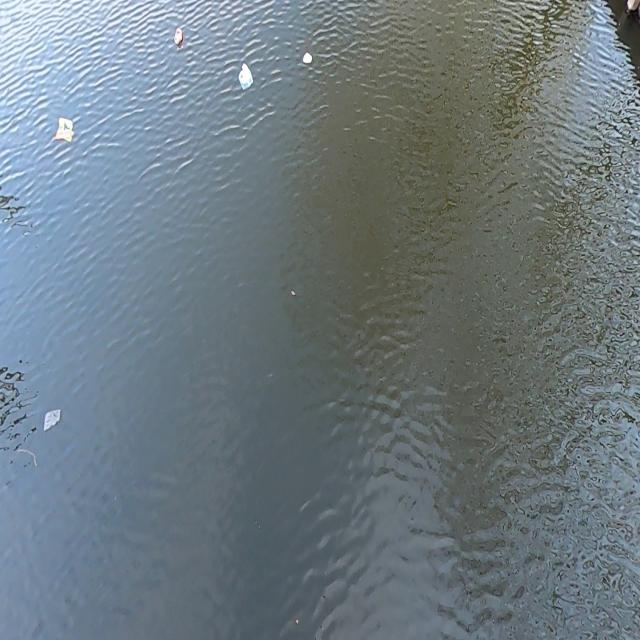Autre plastique: (53, 114, 77, 150), (41, 404, 65, 436)
Non plastique: (171, 23, 186, 54)
